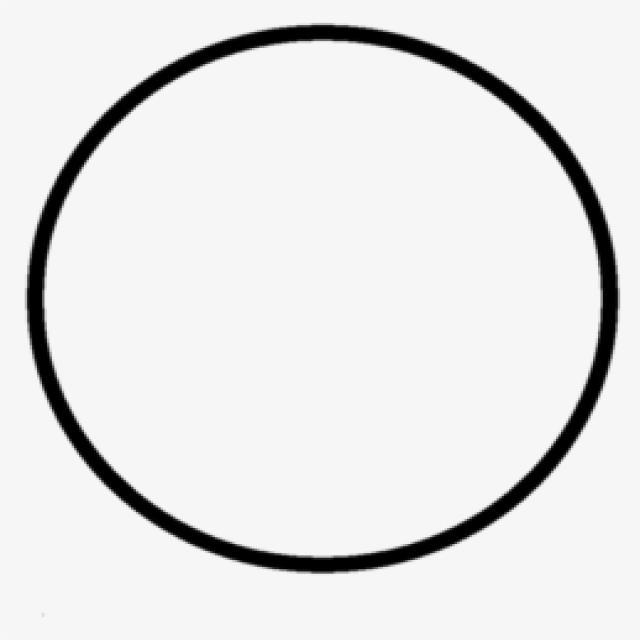Circle: (27, 25, 618, 571)
